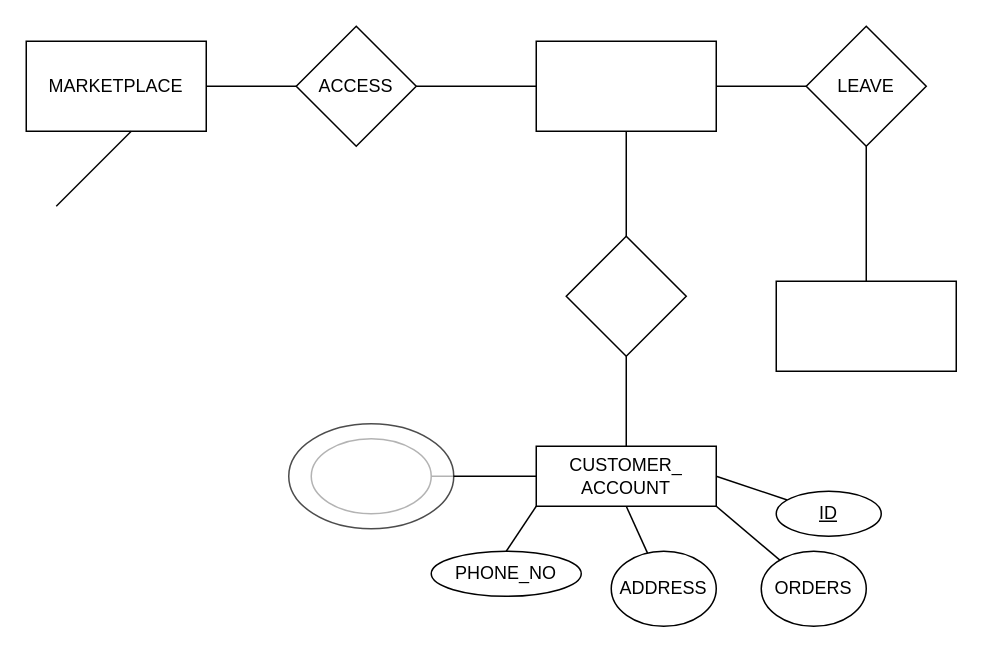
The diagram is 983 pixels wide and 653 high, and some of its shapes have lost their labels. The shapes that lost their labels are listed below. From the top down, each one's centre as x and y in pixels, then its label:
[625,85]: BUYER
[625,295]: HAVE
[865,325]: FEEDBACK
[370,475]: PAYMENT INFO
